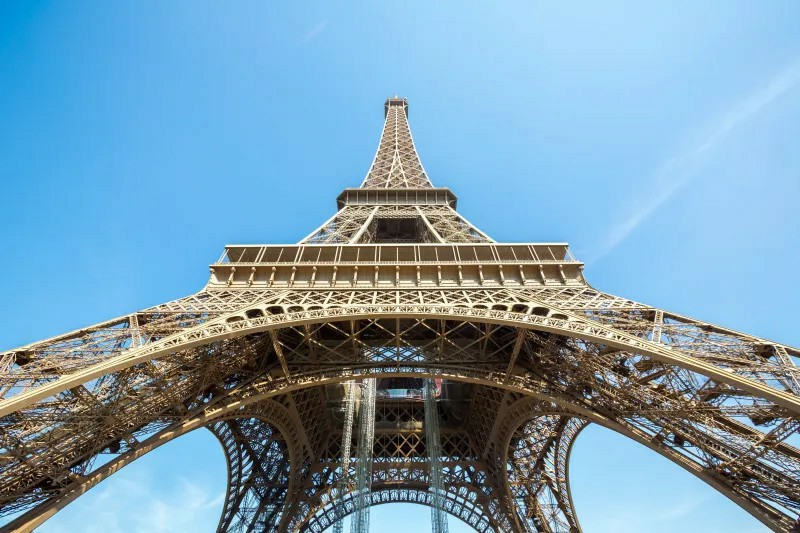Eiffel: (1, 91, 800, 533)
